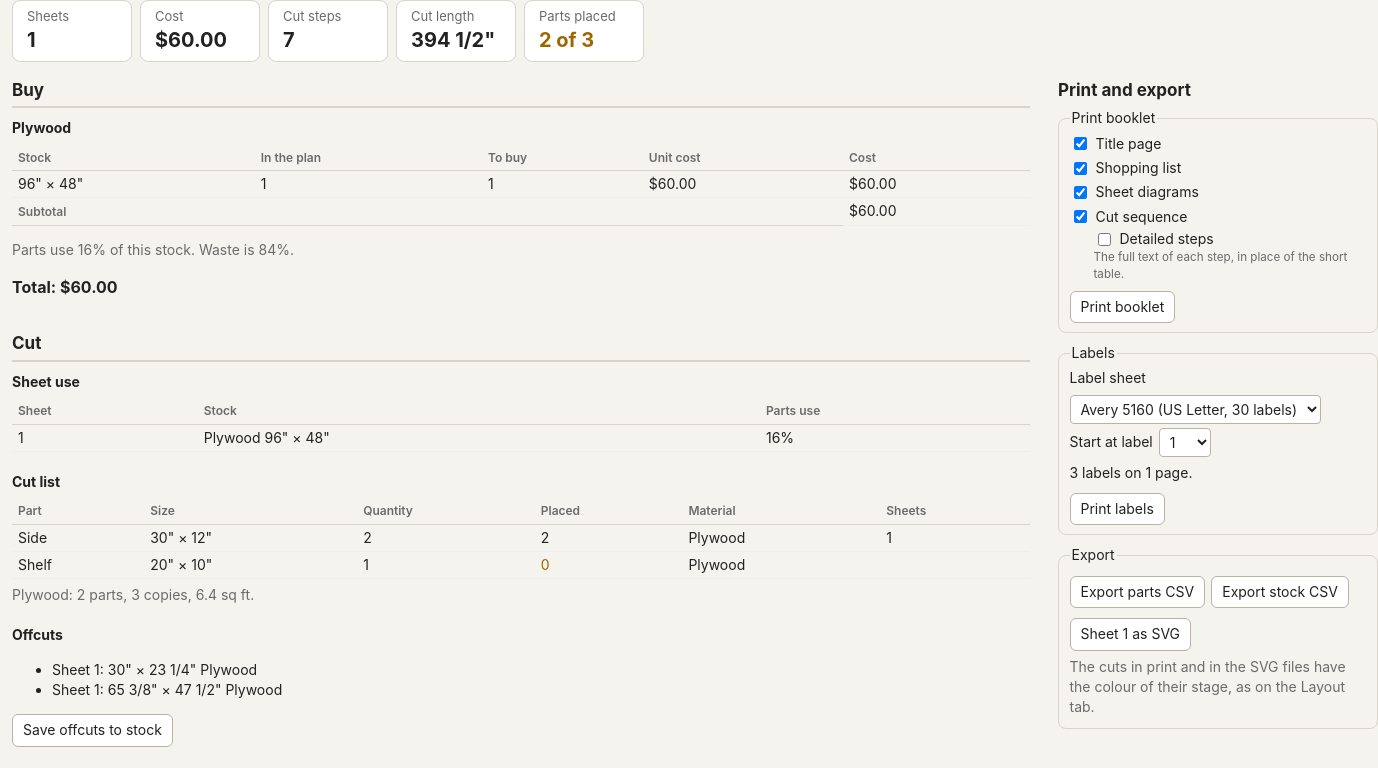
Test: ReportsTab › counts the label pages from the start position and prints the labels
Check: the dropdown labelled "Label sheet" shows "Avery 5160 (US Letter, 30 labels)", box [1070, 394, 1320, 424]
Check: the text "3 labels on 1 page." is shown, box [1070, 462, 1192, 483]
Select "30" in the dropdown labelled "Start at label" at (1185, 442), box [1159, 428, 1211, 456]
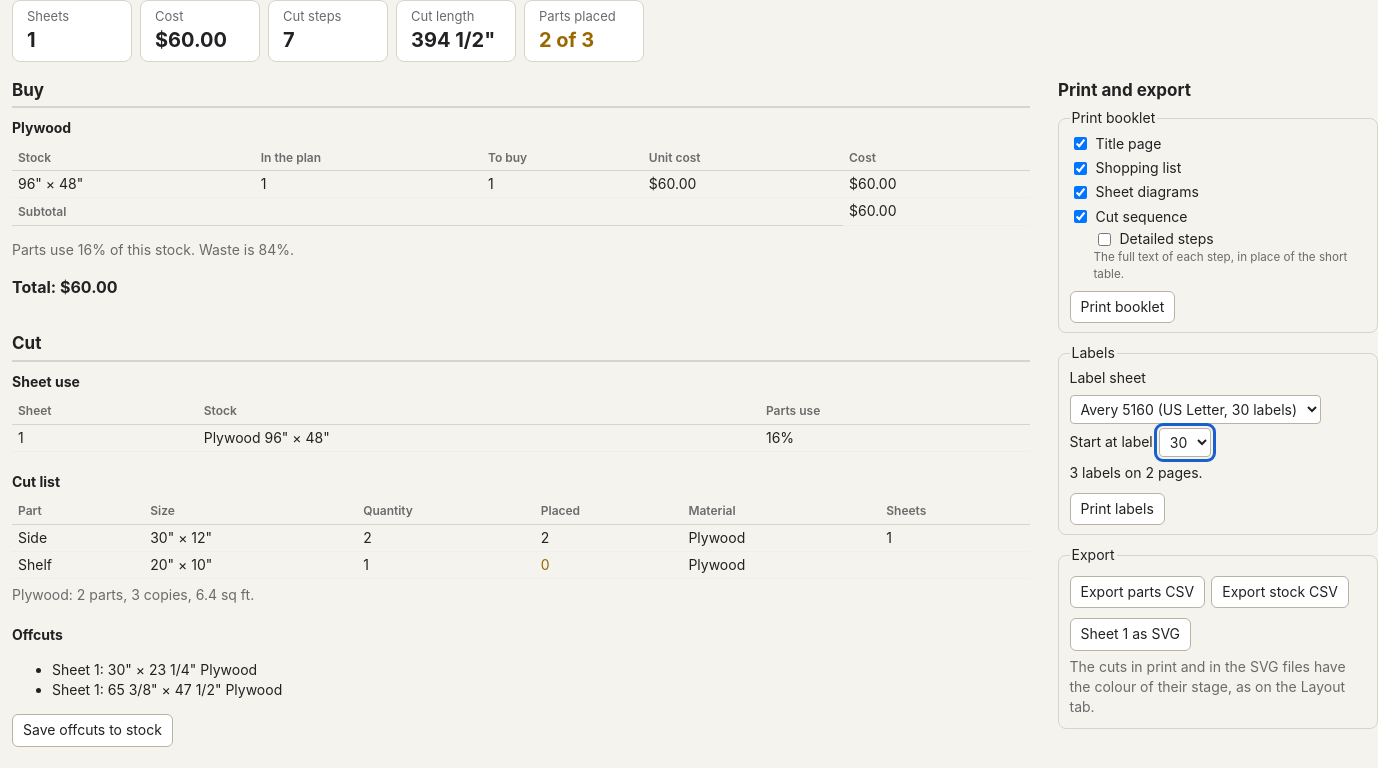
Check: the text "3 labels on 2 pages." is shown, box [1070, 462, 1203, 483]
Click the button "Print labels".
click(1117, 509)  # box [1070, 493, 1165, 525]
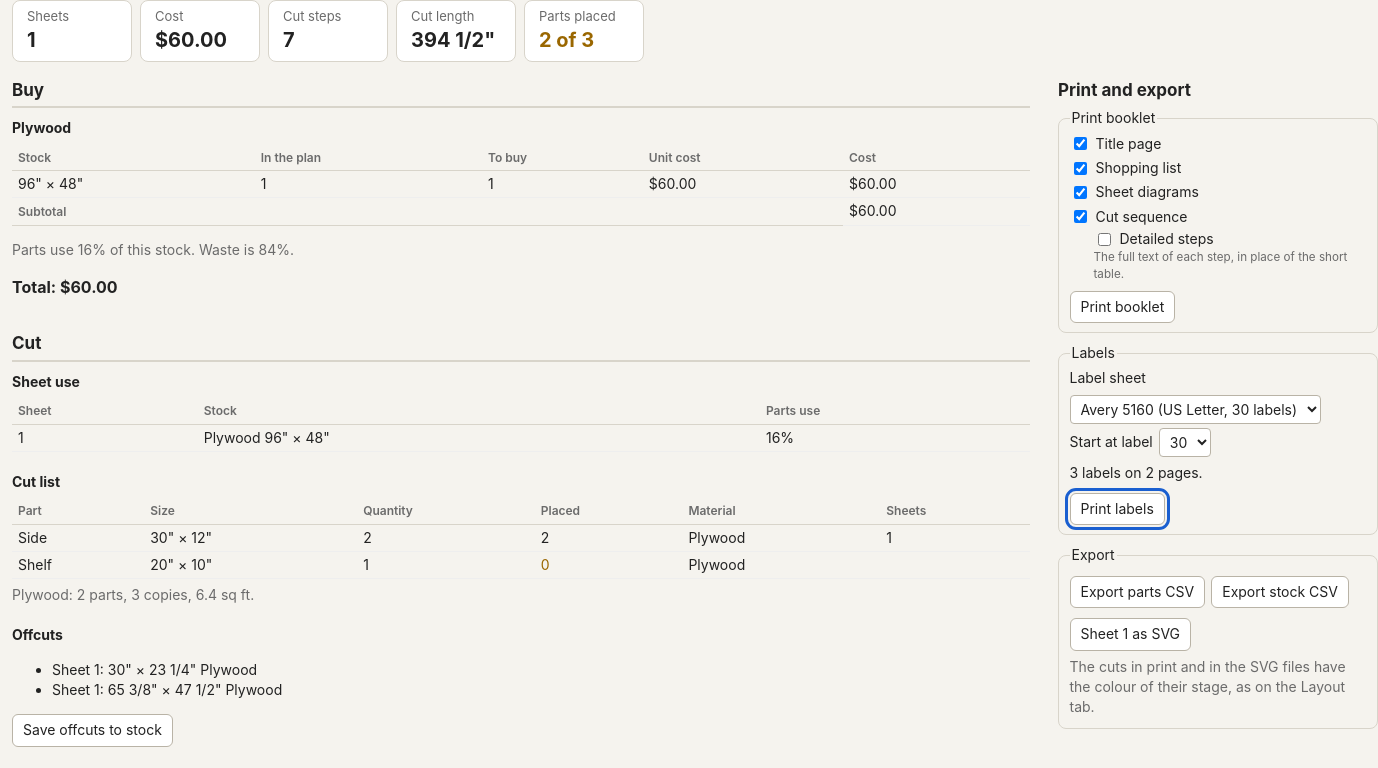
Select "Thermal label, 4 × 2 in" in the dropdown labelled "Label sheet" at (1195, 409), box [1070, 394, 1320, 424]
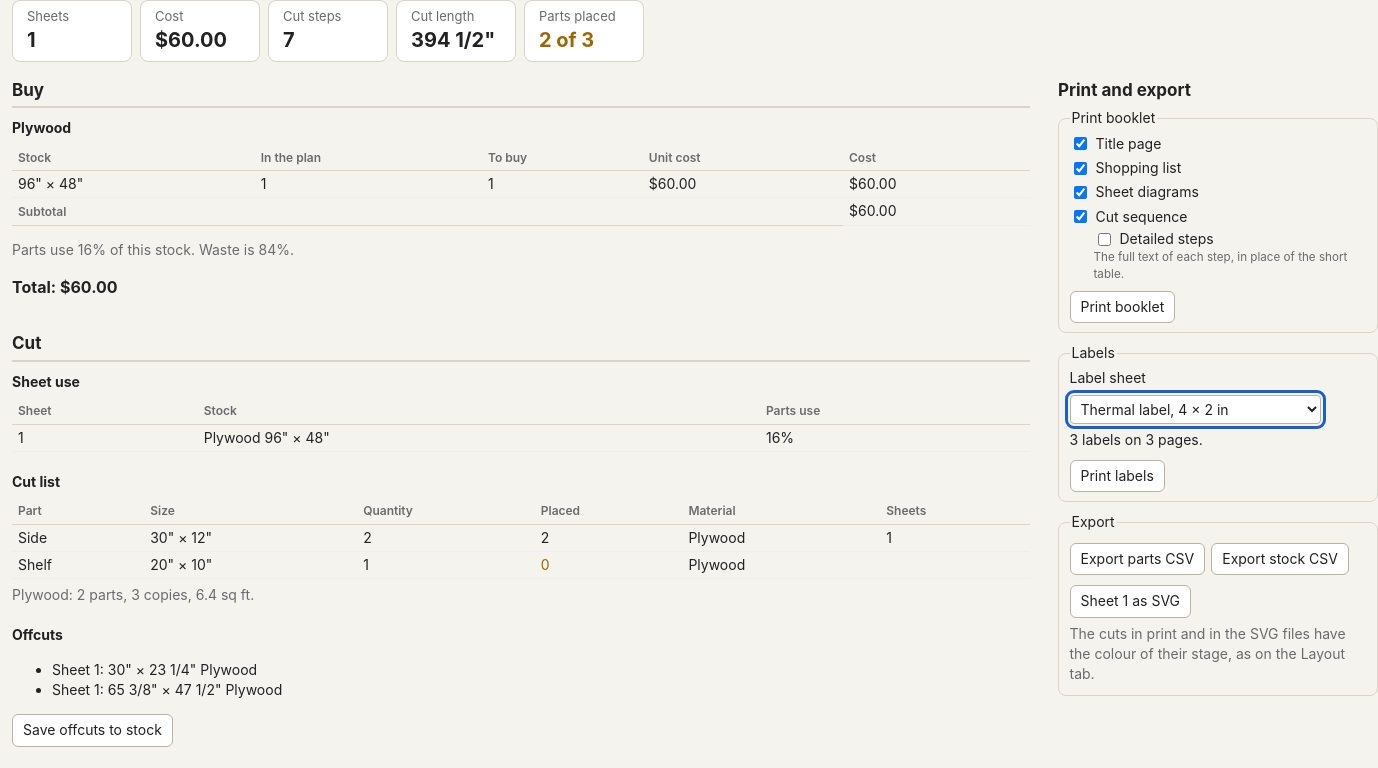
Check: the label "Start at label" is gone
Check: the text "3 labels on 3 pages." is shown, box [1070, 430, 1203, 450]
